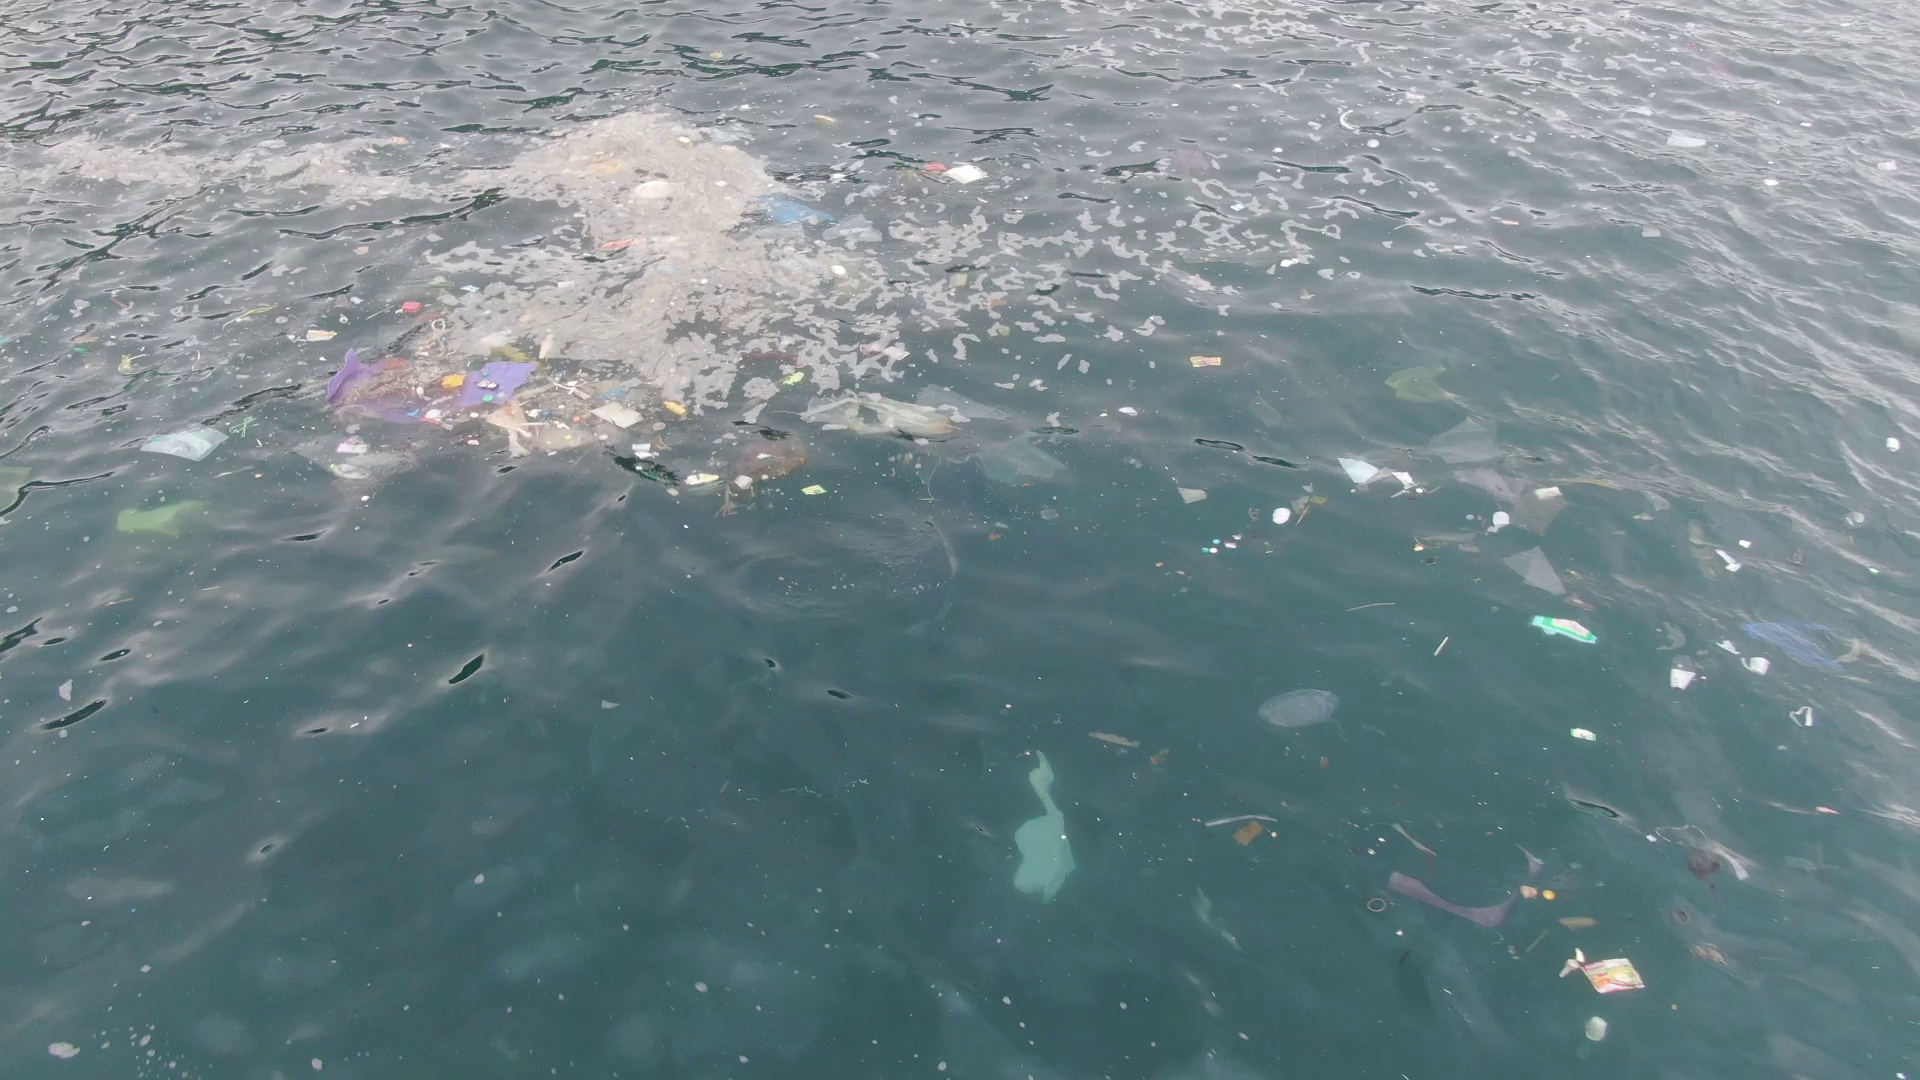garbage: (316, 342, 688, 456), (1414, 426, 1571, 554), (800, 381, 1064, 447), (1387, 836, 1548, 934), (1007, 752, 1079, 899), (686, 419, 807, 488), (1662, 818, 1764, 890), (1739, 611, 1844, 674), (1338, 448, 1432, 501), (1563, 945, 1646, 1000), (138, 425, 228, 462), (1205, 806, 1280, 849), (1505, 545, 1568, 596), (1259, 688, 1342, 727), (116, 501, 207, 533), (762, 193, 832, 233), (1386, 367, 1457, 404), (914, 156, 993, 189), (1528, 615, 1598, 647), (1269, 492, 1328, 527), (600, 236, 682, 252), (400, 290, 446, 318), (1716, 539, 1753, 571), (1197, 533, 1241, 556), (1669, 659, 1695, 692), (1791, 705, 1815, 727), (1571, 727, 1598, 742), (1189, 353, 1222, 367)
